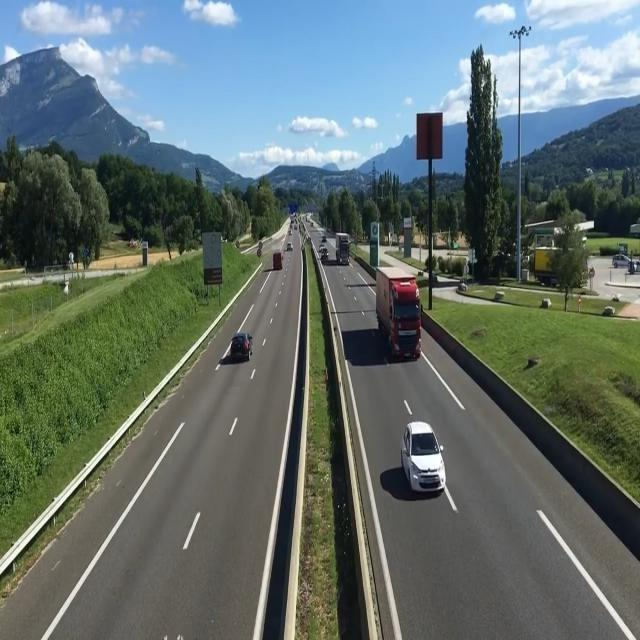Car: (400, 422, 448, 496), (228, 333, 254, 363), (320, 248, 330, 262), (286, 242, 294, 252)
Truck: (374, 265, 426, 362), (334, 230, 351, 268), (272, 251, 284, 271)
